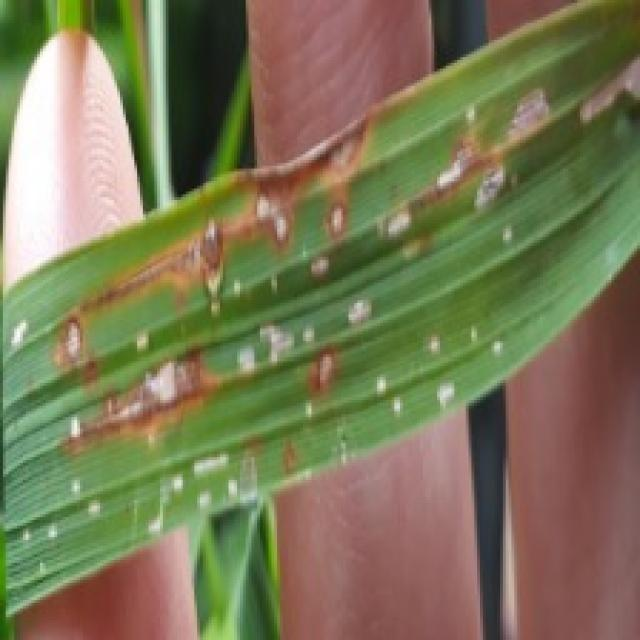Rice___Rice_Blast: (0, 0, 637, 622)
